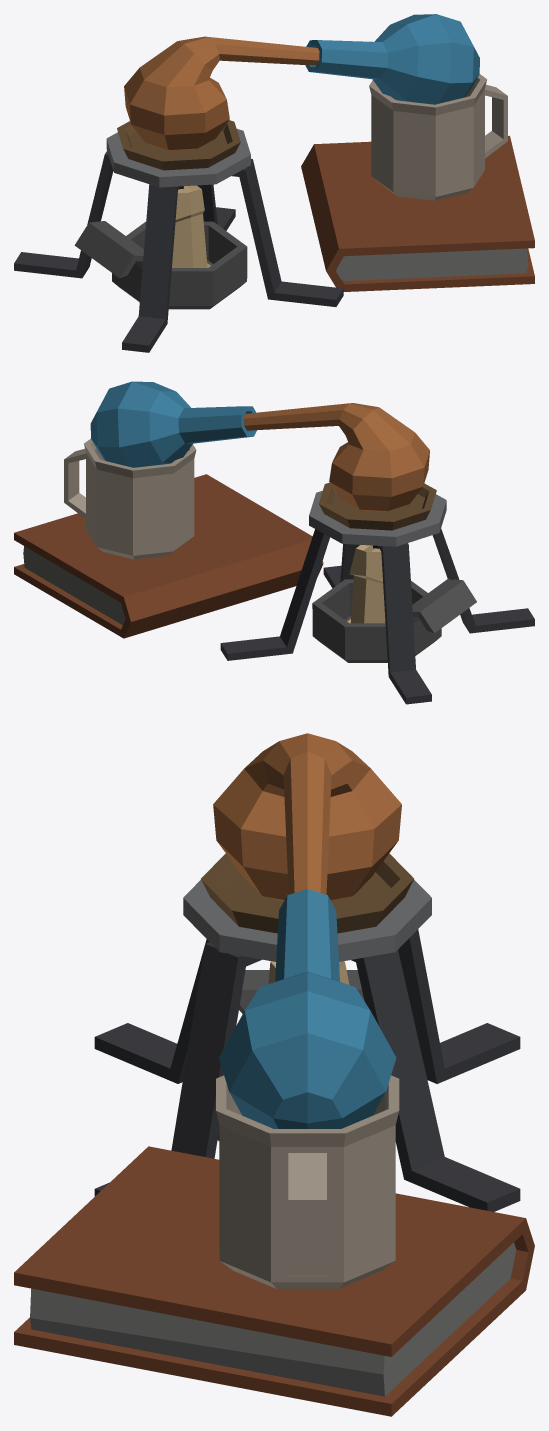
File: SM_Retort.gltf
3 views of the same model, one above another, from view 1: azimuth 30°, elevation 25°; view 2: azimuth 150°, elevation 25°; view 3: azimuth 270°, elevation 25° (orthographic). The views are drawn at different scales.
Parts seen in each view (by area): view 1: SM_Retort; view 2: SM_Retort; view 3: SM_Retort.
Boxes of the visible parts, x1,y1,x2,y2 form: SM_Retort: [14, 14, 534, 352]; SM_Retort: [14, 381, 534, 704]; SM_Retort: [14, 733, 534, 1416].
Bounding box in the file's own units: 0.6244 × 0.3106 × 0.3625.
Materials: 2 (2 with a texture image).
